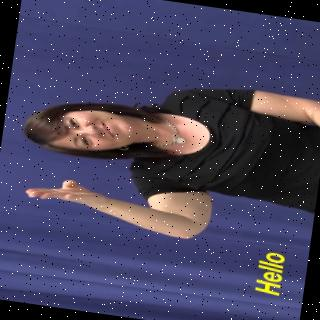Hello: (0, 53, 320, 254)
